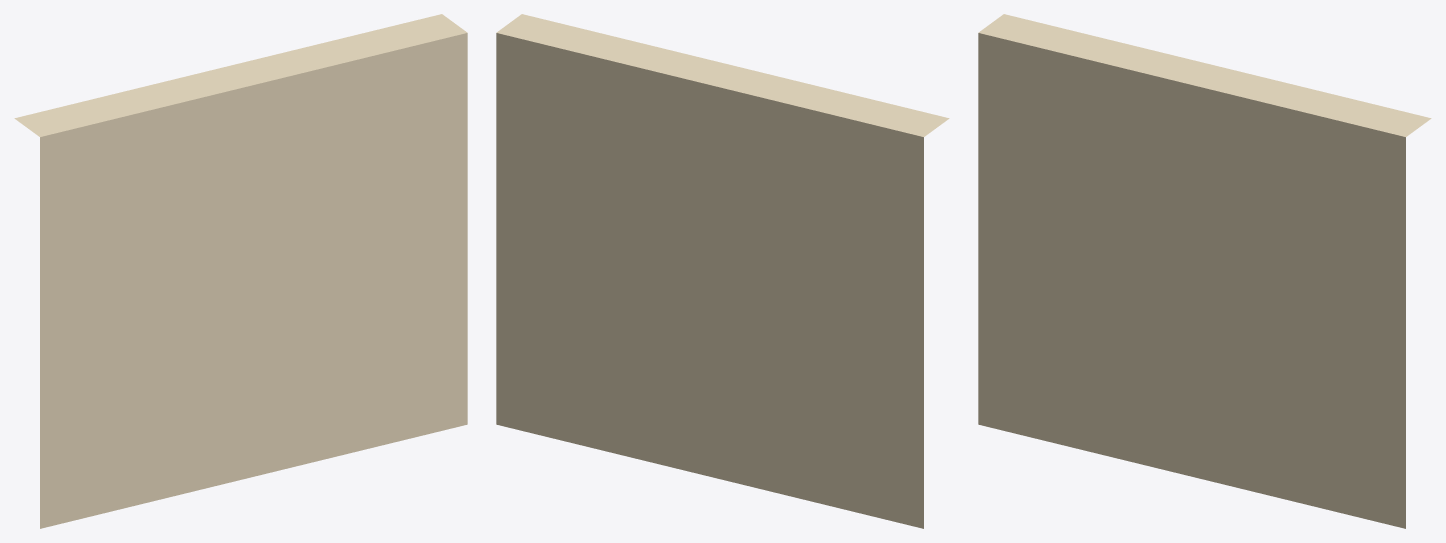
Rendered from dec_house_cream_blind.glb.
The picture shows the model from 3 angles, left to right: view 1: azimuth 30°, elevation 25°; view 2: azimuth 150°, elevation 25°; view 3: azimuth 330°, elevation 25°; orthographic projection.
Parts seen in each view (by area): view 1: dec_house_cream_blind_mesh; view 2: dec_house_cream_blind_mesh; view 3: dec_house_cream_blind_mesh.
Boxes of the visible parts, x1,y1,x2,y2 form: dec_house_cream_blind_mesh: (14, 14, 467, 528); dec_house_cream_blind_mesh: (496, 14, 949, 528); dec_house_cream_blind_mesh: (978, 14, 1431, 528).
Size of the model in its own units: 0.48 by 0.42 by 0.05.
Materials: 1 (1 with a texture image).
